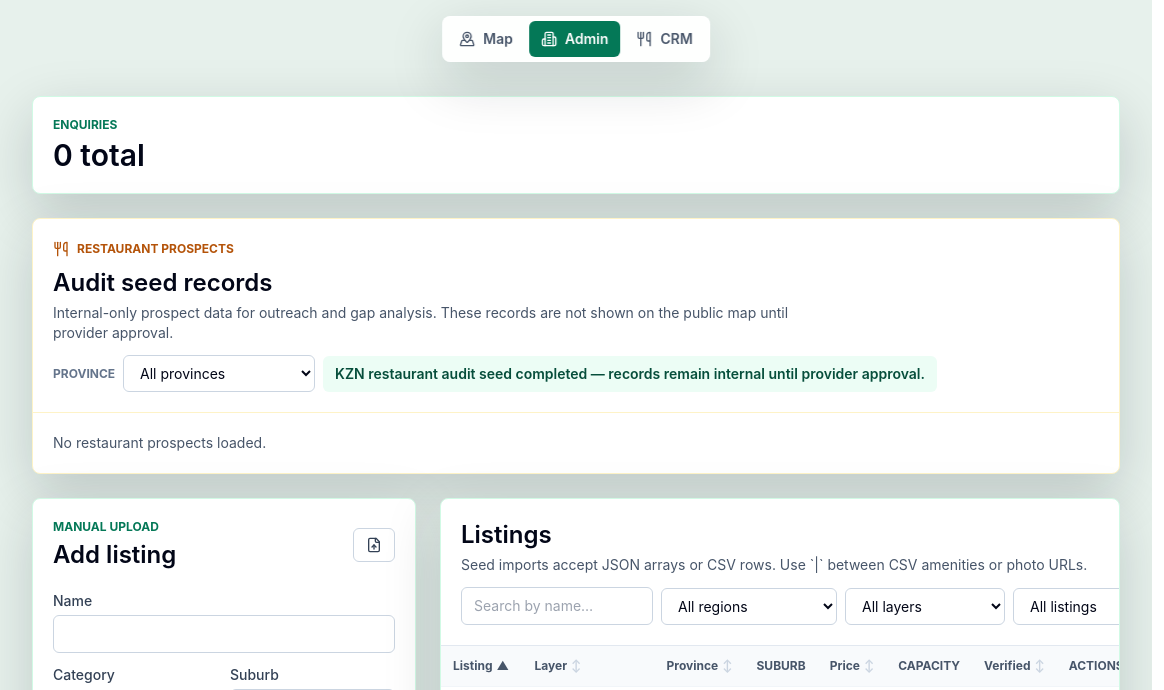
empty state renders when layer filter matches no listings
The image size is (1164, 690).
Select "Events" in the 2nd dropdown named "Layer" at {"x": 925, "y": 606}, box 845,588 -> 1005,624
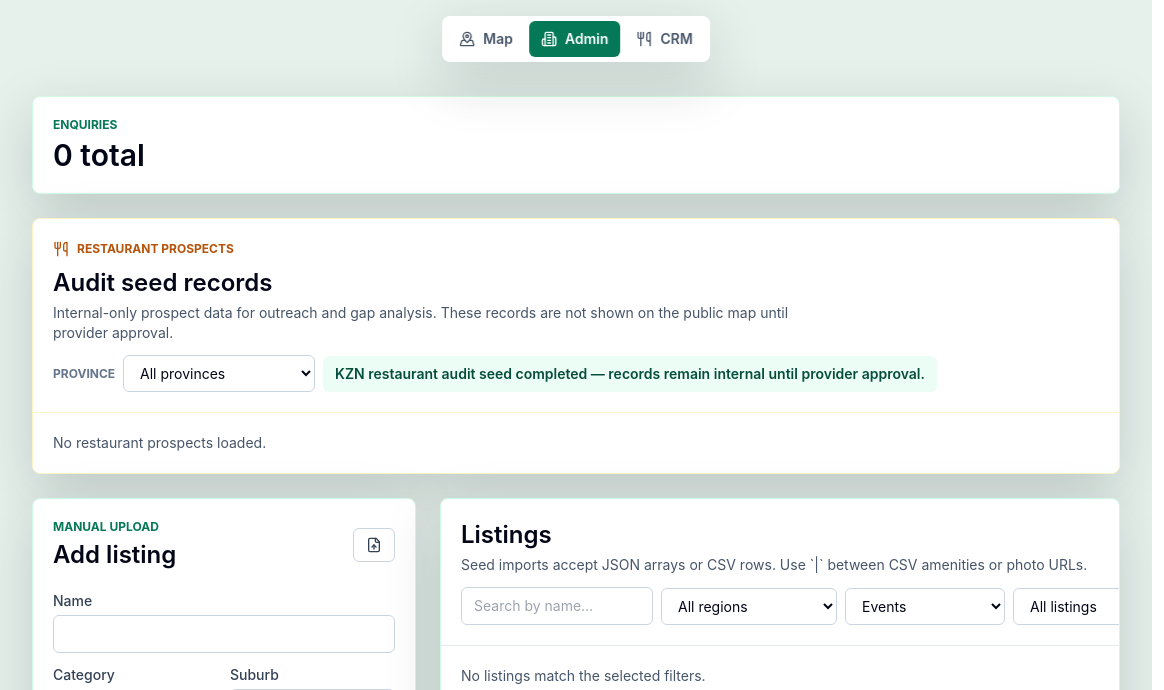
Expected: the text "No listings match the selected filters." is shown, 461,667 -> 706,684
